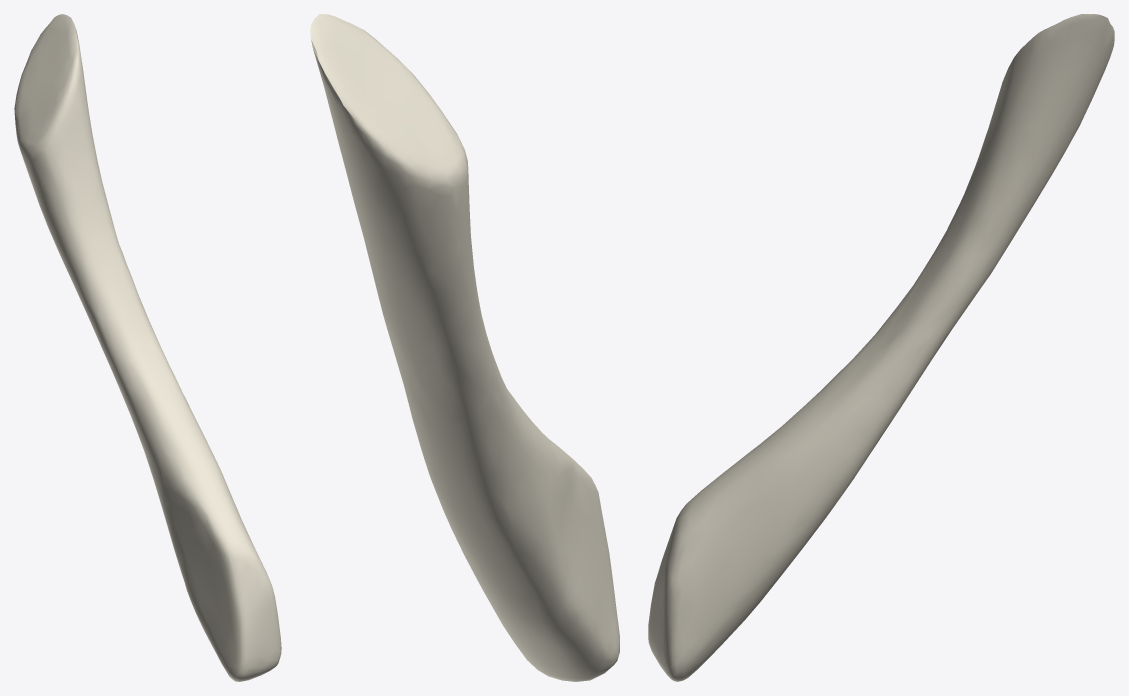
Rendered from fma57086_mm1341.glb.
3 renders of one model, left to right at view 1: azimuth 30°, elevation 25°; view 2: azimuth 150°, elevation 25°; view 3: azimuth 270°, elevation 25°, orthographic. The views are drawn at different scales.
Parts seen in each view (by area): view 1: FMA57086_MM1341; view 2: FMA57086_MM1341; view 3: FMA57086_MM1341.
Boxes of the visible parts, left/top/right/bottom form: FMA57086_MM1341: left=14, top=14, right=281, bottom=681; FMA57086_MM1341: left=310, top=14, right=619, bottom=681; FMA57086_MM1341: left=648, top=14, right=1114, bottom=681.
Bounding box in the file's own units: 0.00626 × 0.0297 × 0.0192.
